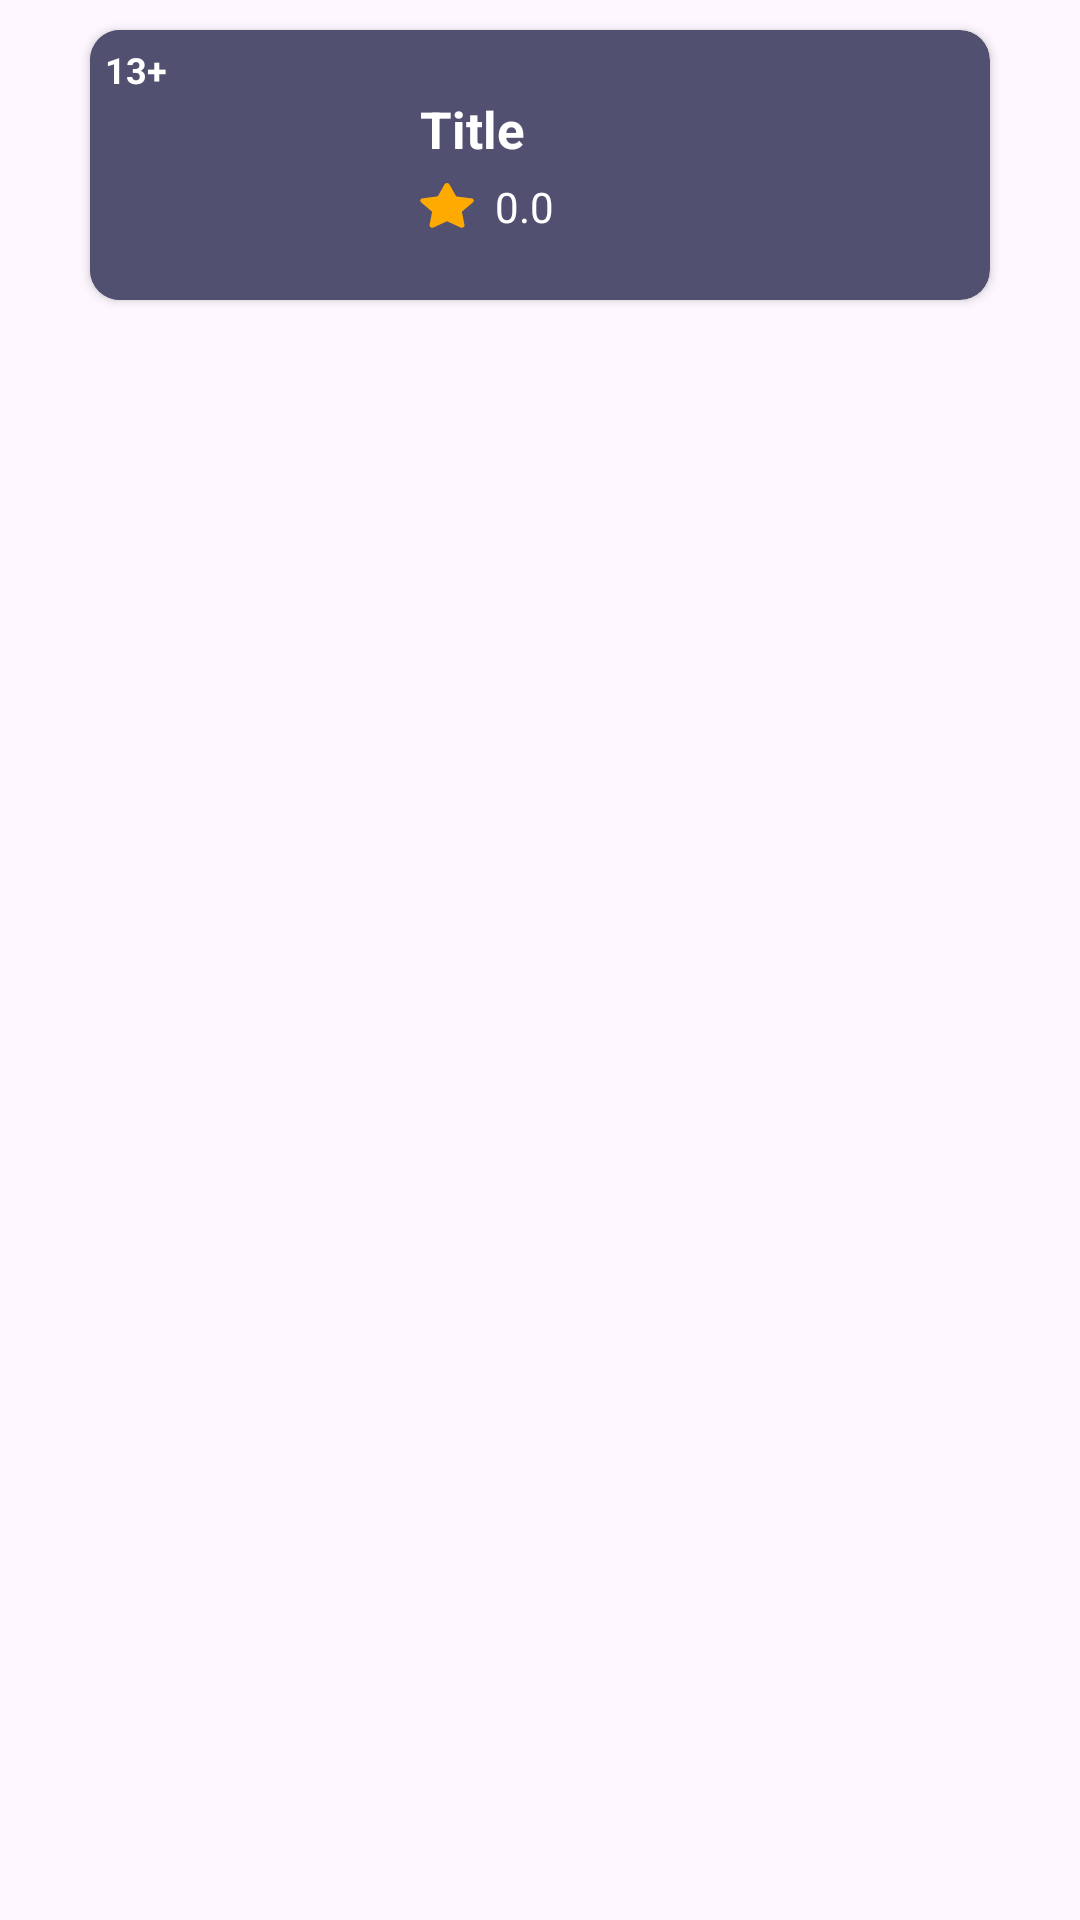

Where to tap for icons on this 1080px x 1920px app screen, as (x=x, y=y):
rating: (x=447, y=205)
